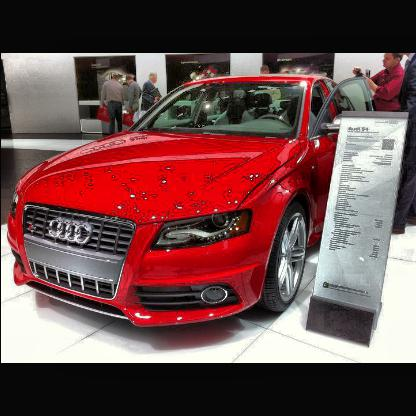Audi S4 Sedan 2012: (6, 74, 376, 328)
